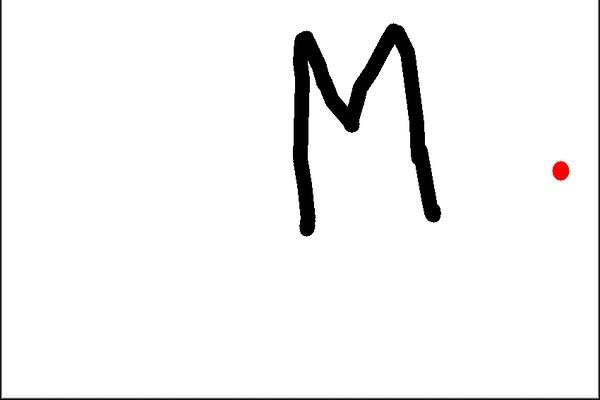M: (287, 22, 446, 235)
